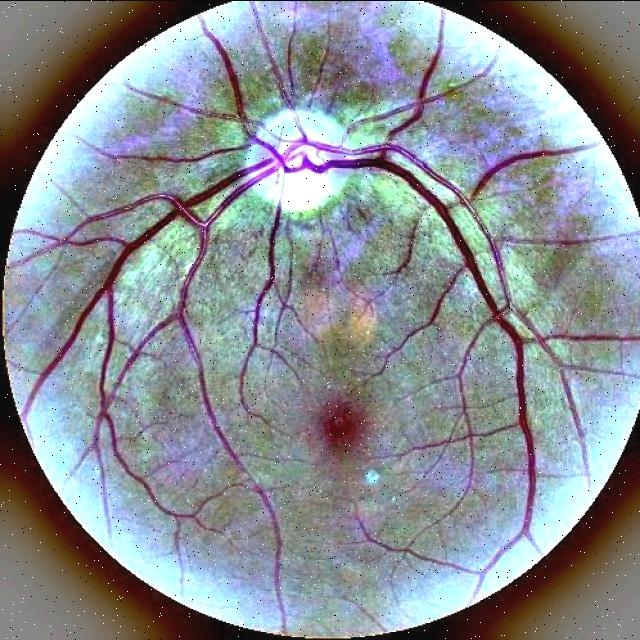Macula: (265, 369, 397, 477)
Nerves: (283, 144, 549, 565), (86, 154, 282, 524)
Optic Disk: (191, 72, 381, 251)
